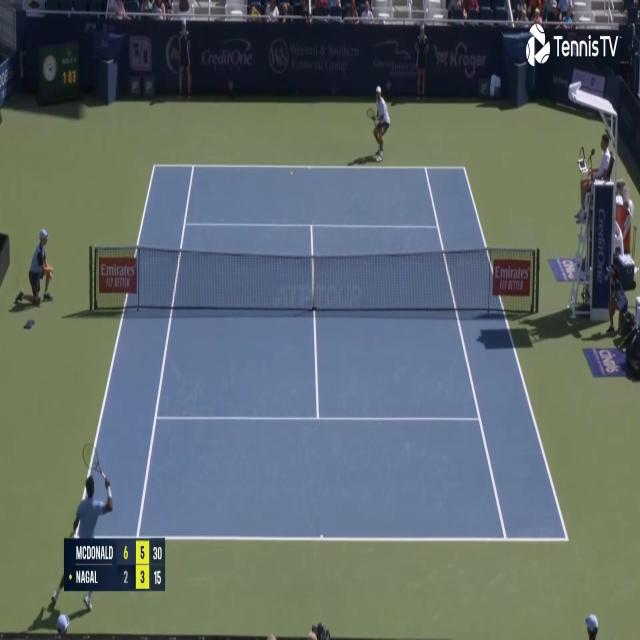tennis-player: (46, 442, 116, 616), (364, 83, 391, 165)
